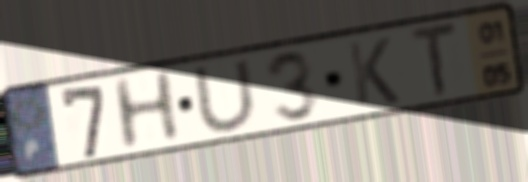3: (263, 47, 322, 125)
7: (57, 83, 108, 161)
H: (107, 67, 185, 155)
K: (345, 35, 403, 110)
T: (407, 18, 461, 102)
U: (189, 56, 262, 135)
